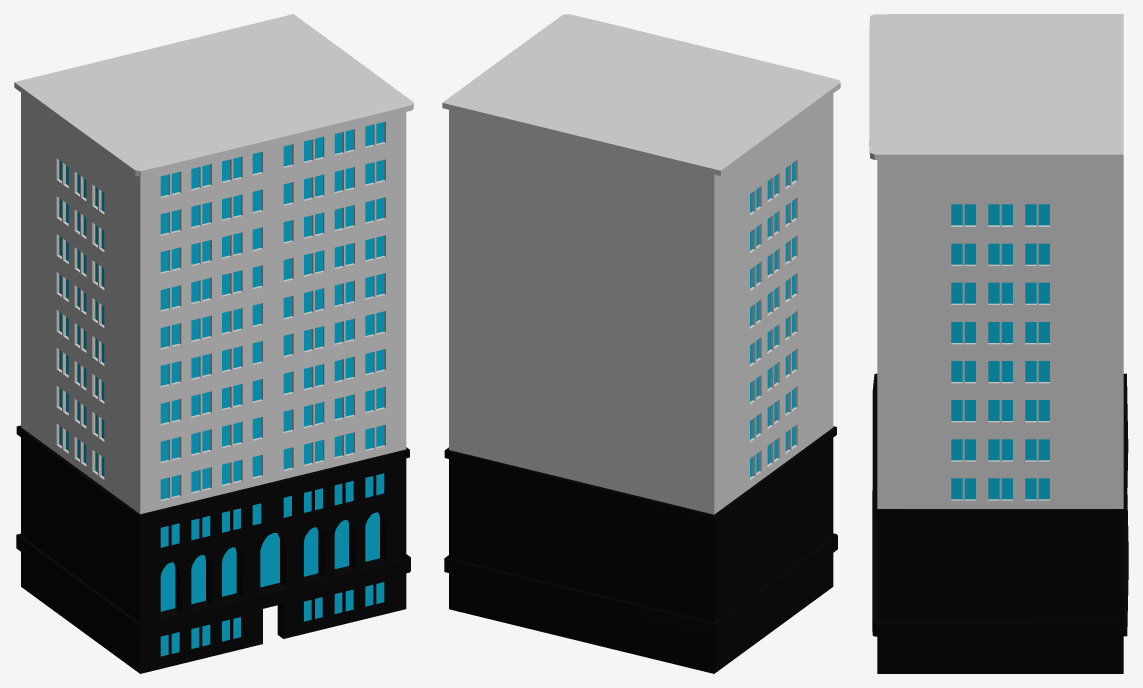
Rendered from politieBureau.fbx.
3 renders of one model, left to right at view 1: azimuth 30°, elevation 25°; view 2: azimuth 150°, elevation 25°; view 3: azimuth 270°, elevation 25°, orthographic. The views are drawn at different scales.
Visible parts, largest first — view 1: PolitieBureau; view 2: PolitieBureau; view 3: PolitieBureau.
Boxes of the visible parts, x1=… form: PolitieBureau: x1=14, y1=14, x2=413, y2=673; PolitieBureau: x1=442, y1=14, x2=840, y2=673; PolitieBureau: x1=869, y1=14, x2=1128, y2=673.
Size of the model in its own units: 27 by 46.75 by 21.04.
